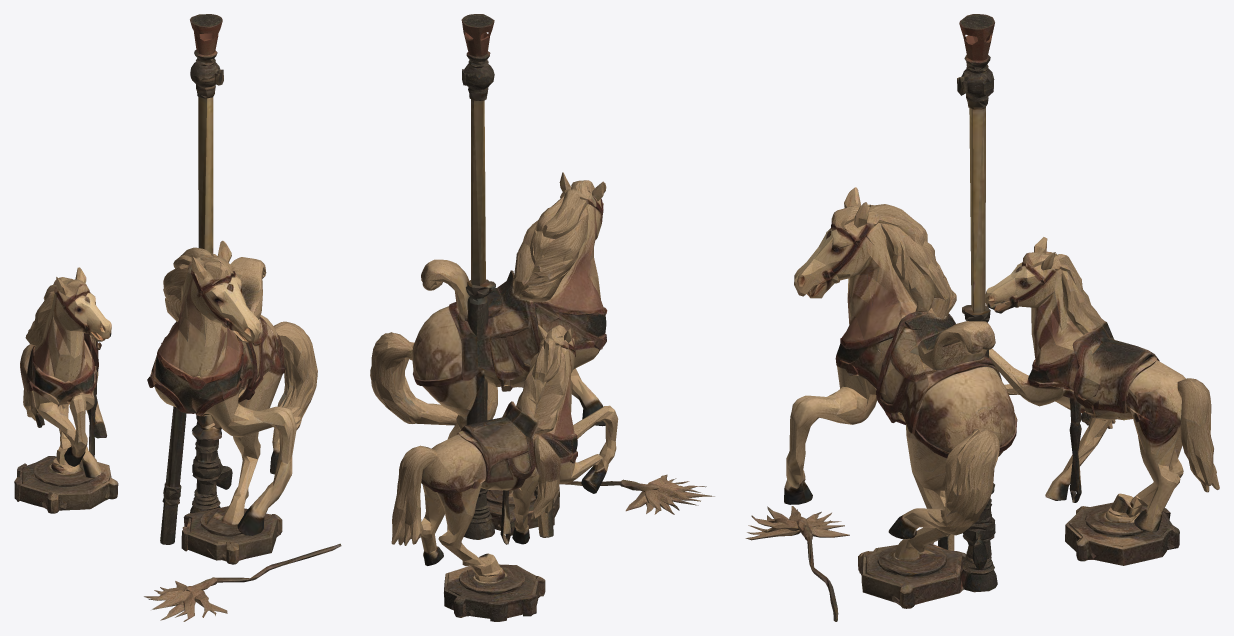
File: cavalo_carrossel.glb
3 views of the same model, side by side, from view 1: azimuth 30°, elevation 25°; view 2: azimuth 150°, elevation 25°; view 3: azimuth 270°, elevation 25° (orthographic). The views are drawn at different scales.
Size of the model in its own units: 0.9755 by 1.9 by 1.45.
1 material, 1 textured.
